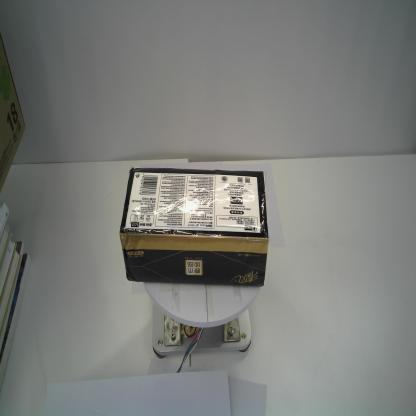Tissue: (118, 164, 270, 290)
